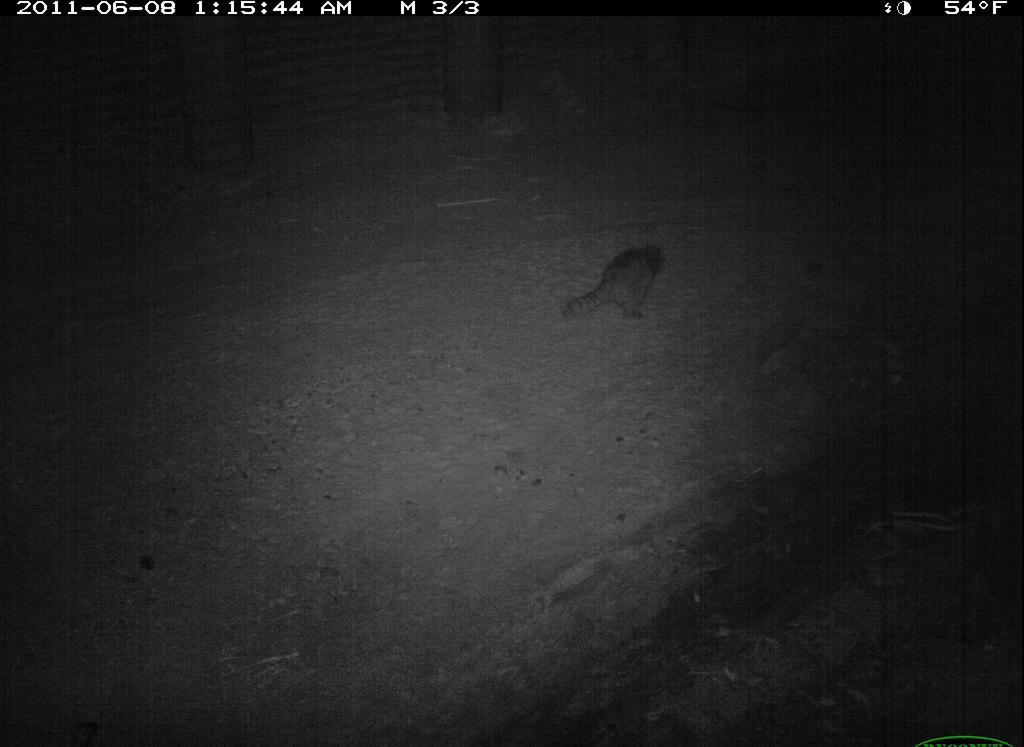raccoon: (556, 233, 674, 331)
